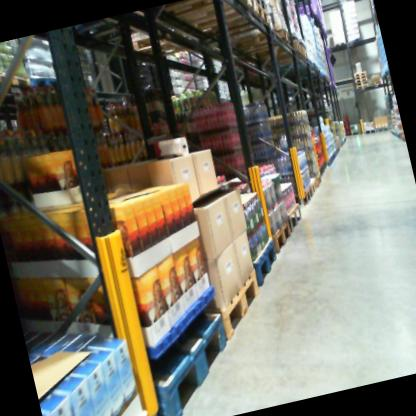pallet: (135, 304, 242, 416), (182, 0, 277, 55), (207, 269, 269, 338), (130, 19, 210, 68), (162, 0, 260, 36), (224, 22, 294, 60), (240, 236, 285, 295), (235, 36, 303, 71), (252, 45, 313, 80), (258, 220, 297, 267), (28, 66, 71, 100), (0, 64, 33, 99), (282, 196, 310, 233), (295, 184, 316, 208), (300, 176, 321, 200), (313, 173, 325, 188), (254, 0, 269, 10), (353, 70, 367, 78), (369, 81, 382, 89), (356, 85, 370, 92), (355, 81, 369, 88), (355, 75, 368, 81), (356, 79, 368, 84)
